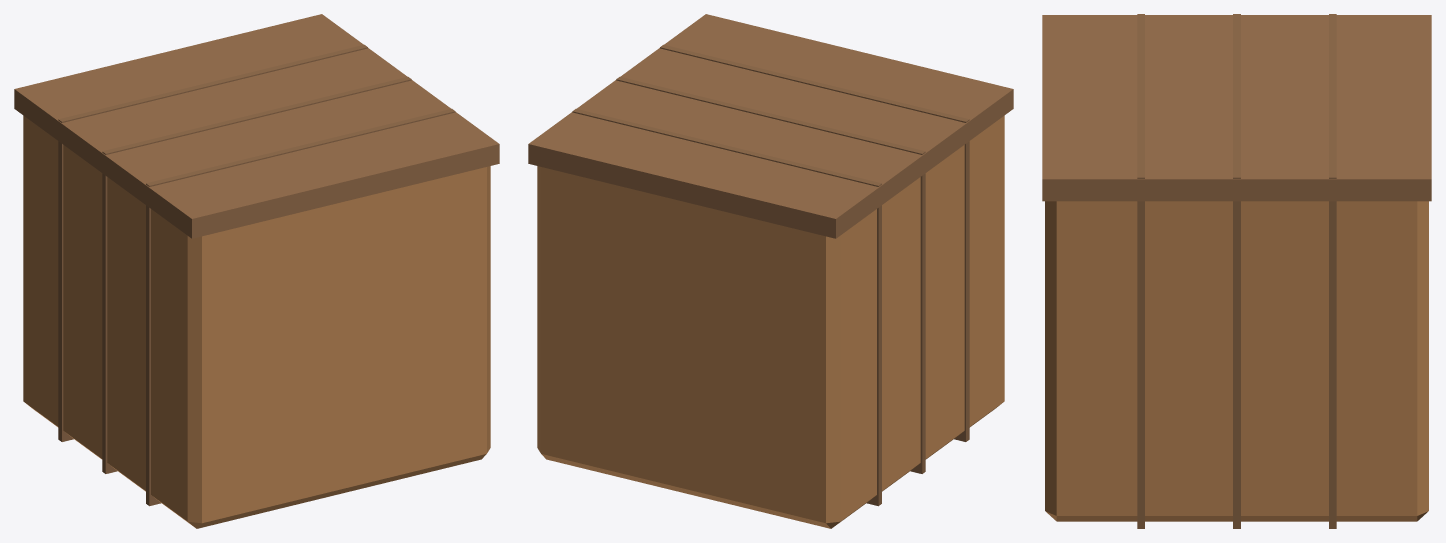
The model's file is PlankBlock.fbx.
The picture shows the model from 3 angles, left to right: view 1: azimuth 30°, elevation 25°; view 2: azimuth 150°, elevation 25°; view 3: azimuth 270°, elevation 25°; orthographic projection. The views are drawn at different scales.
Visible parts, largest first — view 1: PlankBlock; view 2: PlankBlock; view 3: PlankBlock.
Boxes of the visible parts, left/top/right/bottom form: PlankBlock: left=14, top=14, right=499, bottom=528; PlankBlock: left=528, top=14, right=1013, bottom=528; PlankBlock: left=1042, top=14, right=1431, bottom=528.
Bounding box in the file's own units: 4.06 × 4.04 × 4.06.
1 material, 1 textured.
